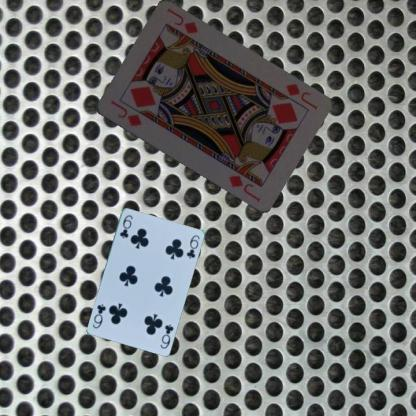6c: (116, 212, 134, 239), (158, 321, 174, 350)
Jd: (282, 81, 319, 111), (107, 98, 142, 127)
